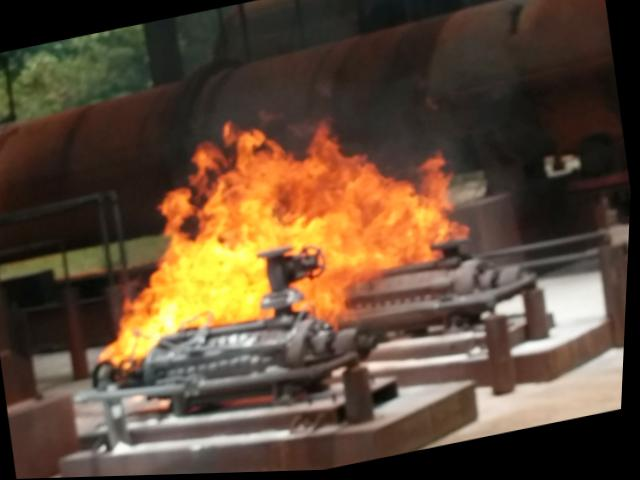fire: (63, 83, 487, 395)
